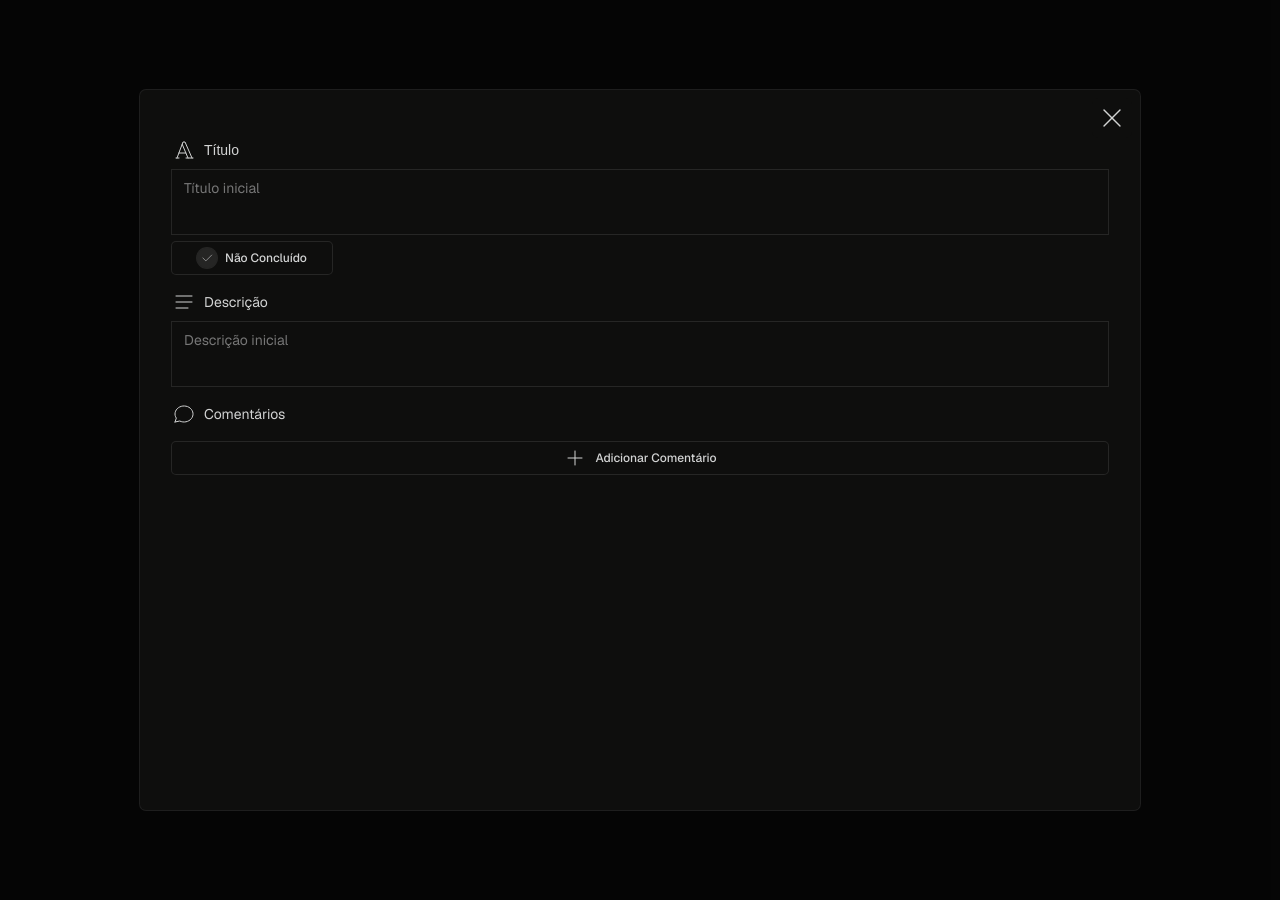
Test case: TitleFieldComponent › mostra loading e desabilita submit enquanto a atualização está pendente
Click the button with aria-label "btn-edit-title" at (222, 188), box [172,170,1108,234]
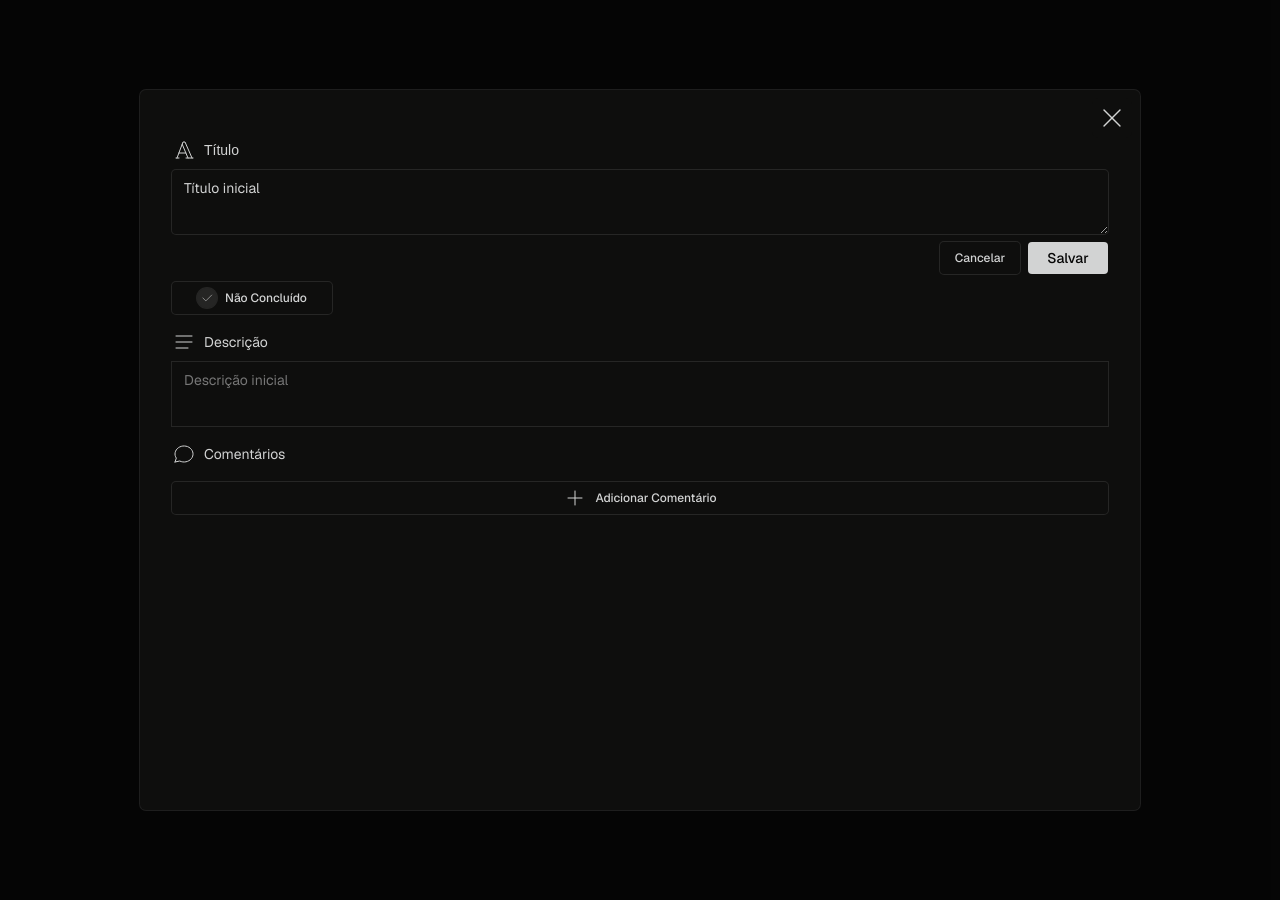
Replace the text in the text box named "edit-title" with "Título pendente" at (640, 202), box [172,170,1108,234]
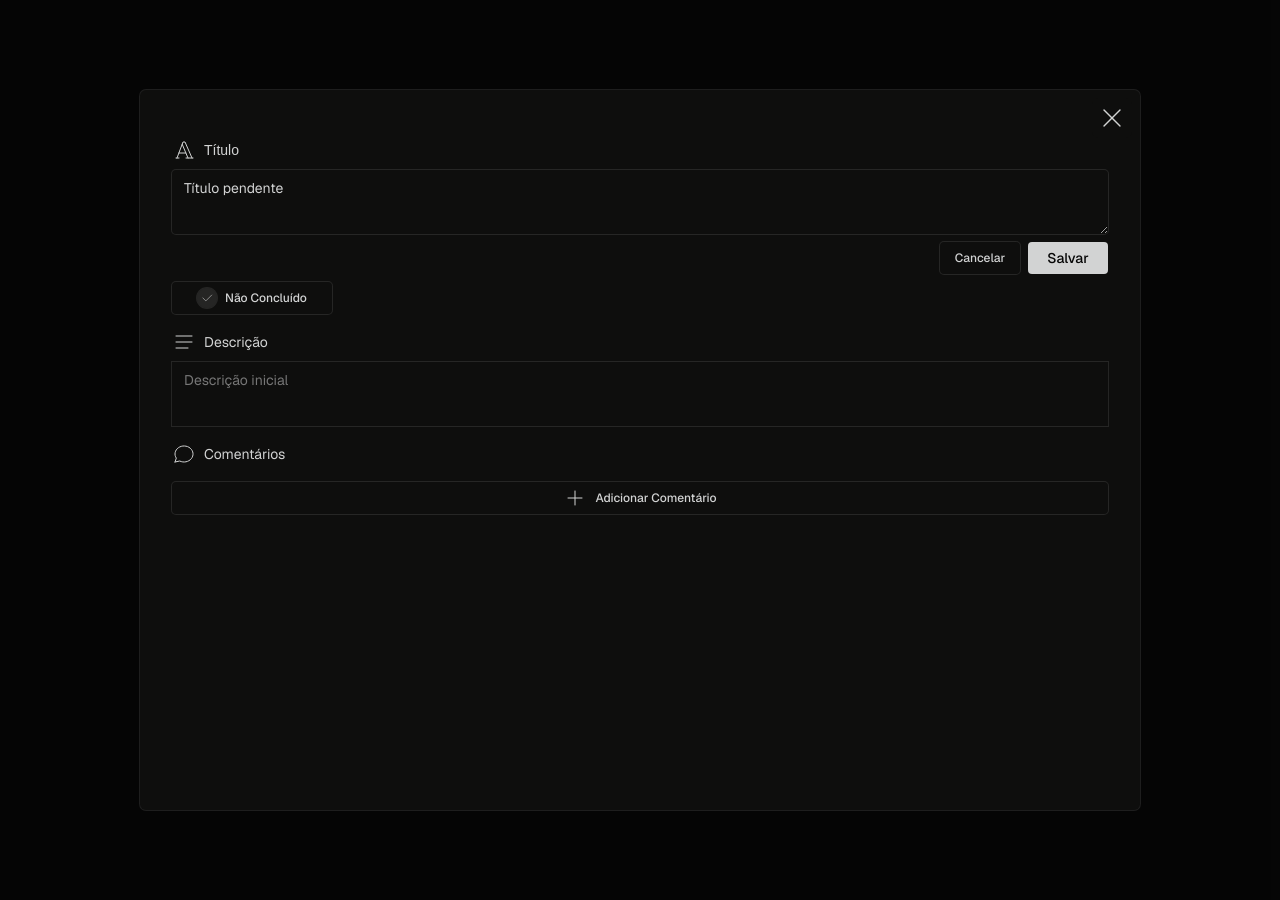
Click the button with aria-label "submit-edit-title" at (1068, 258), box [1028,242,1108,274]
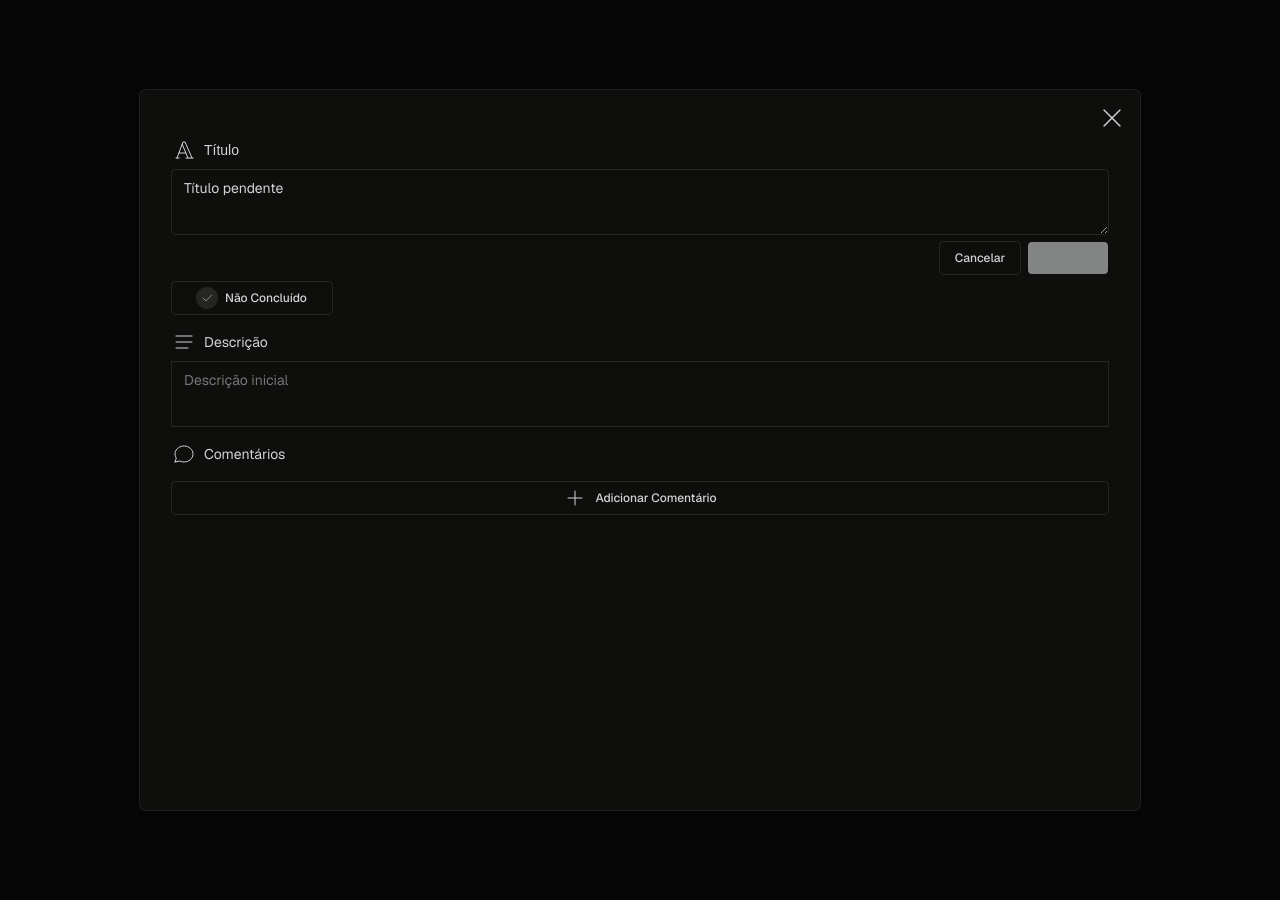
Check: the button named "submit-edit-title" is disabled, box [1028,242,1108,274]
